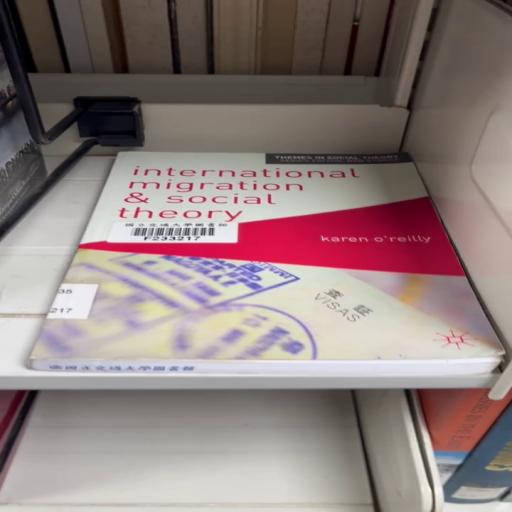flat: (29, 154, 504, 377)
